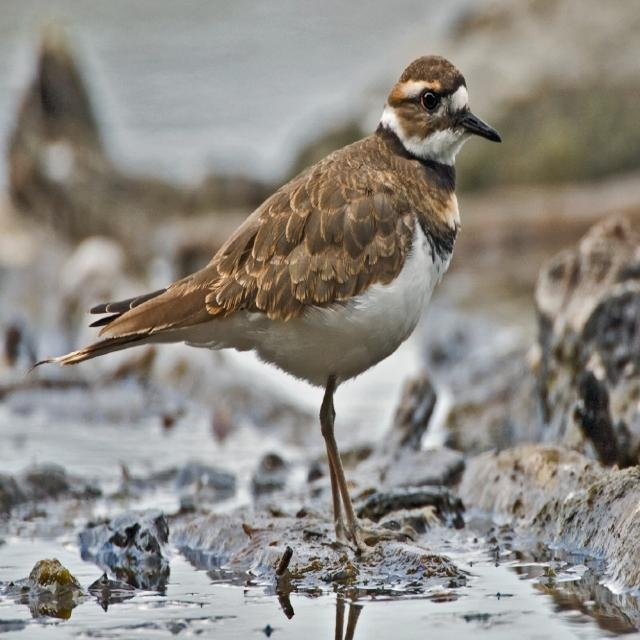bird: (1, 557, 88, 626)
